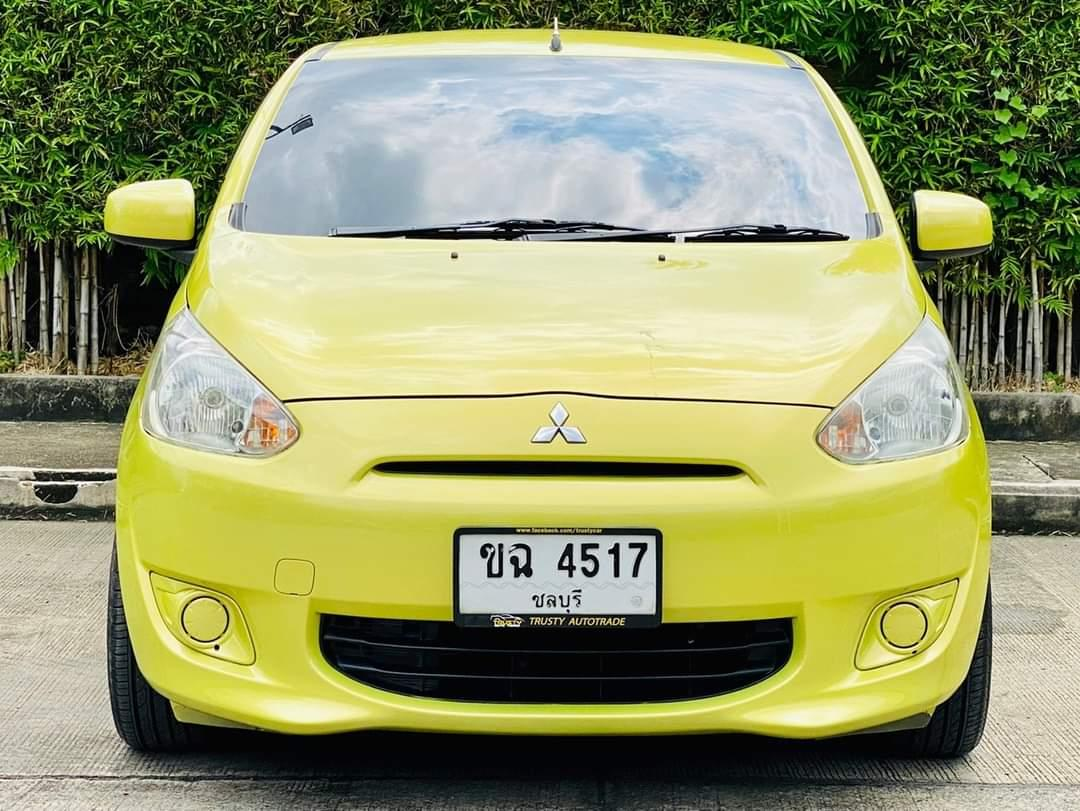license-plate: (450, 524, 664, 629)
